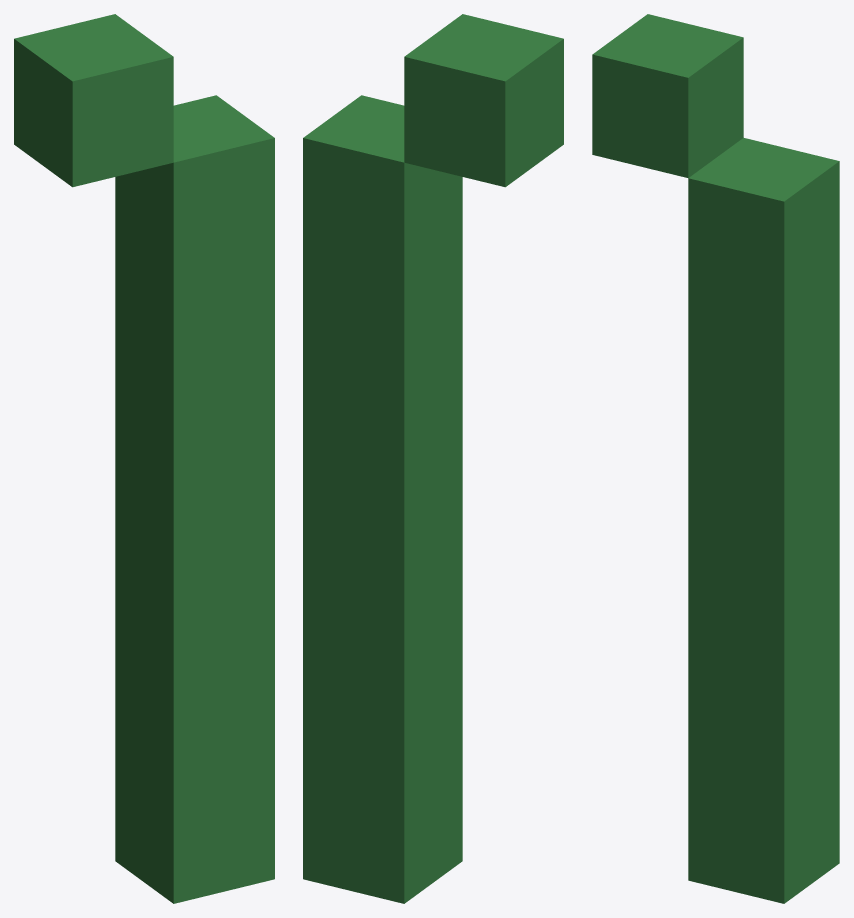
Rendered from grass_tall6.obj.
3 renders of one model, left to right at view 1: azimuth 30°, elevation 25°; view 2: azimuth 150°, elevation 25°; view 3: azimuth 330°, elevation 25°, orthographic. The views are drawn at different scales.
Bounding box in the file's own units: 2 × 8 × 1.
1 material, 1 textured.
